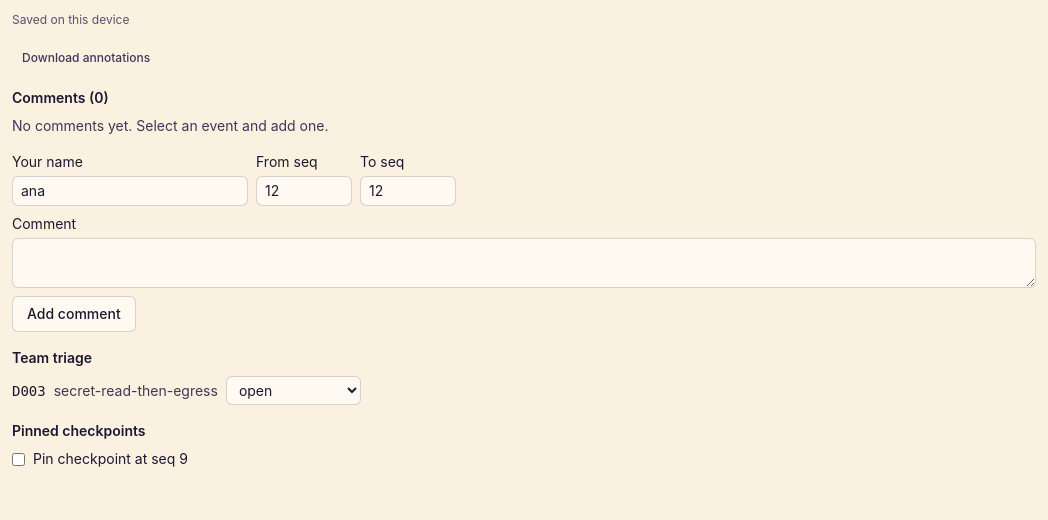
Test: annotations panel › refuses an inverted range with a message
Replace the text in the field labelled "To seq" with "3" at (408, 191), box [360,176,456,206]
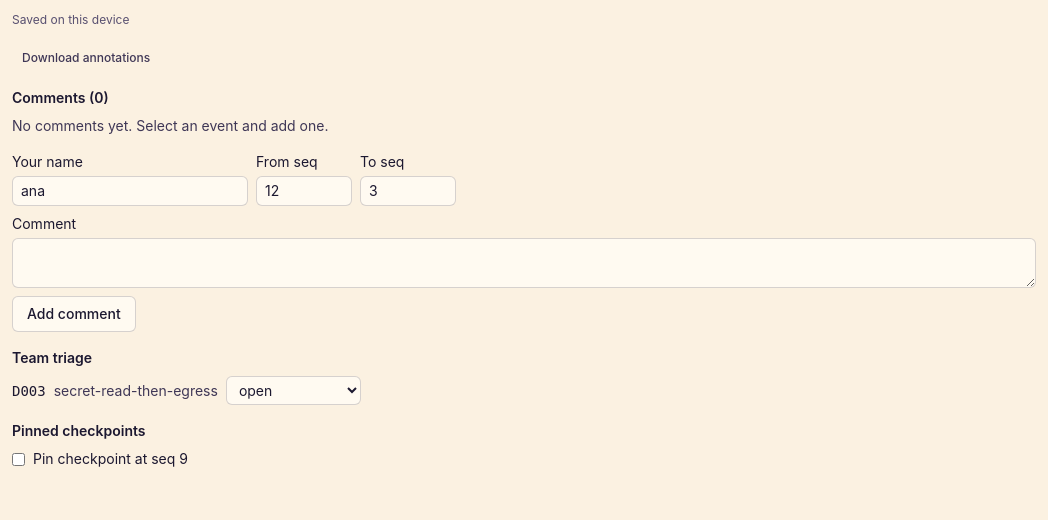
Type "x" into the text box labelled "Comment".
click(524, 263); type("x")  # box [12,238,1036,288]
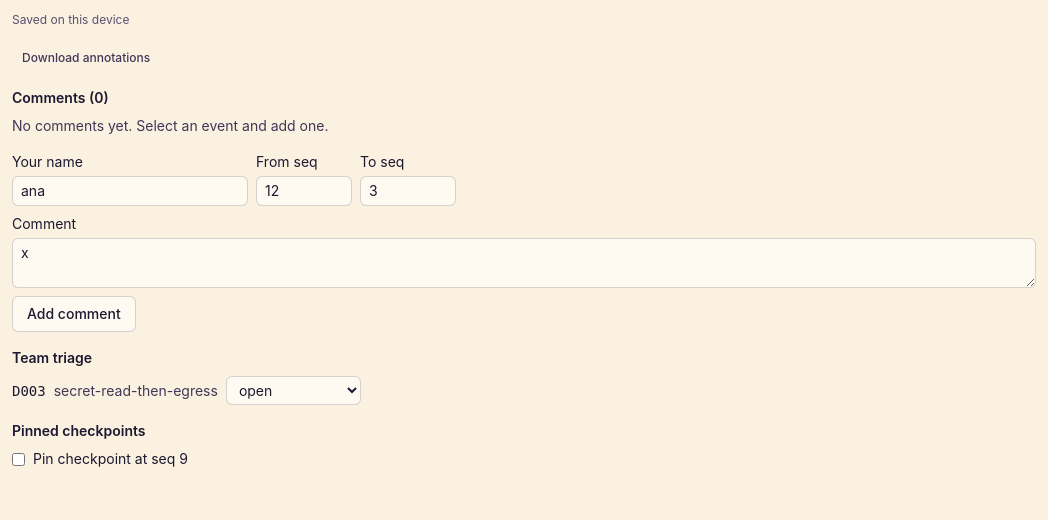
Click the button "Add comment".
click(74, 314)  # box [12,296,136,332]
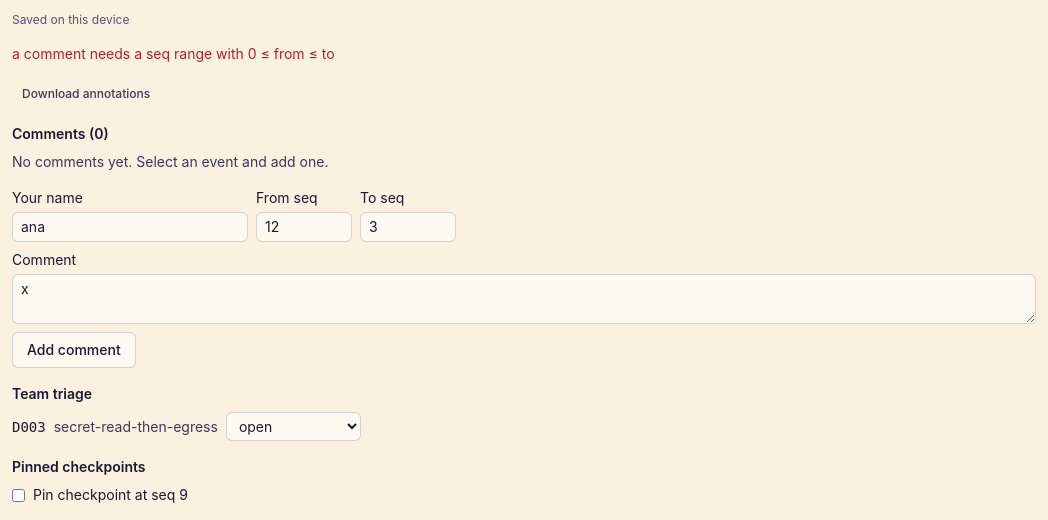
Expected: the message "a comment needs a seq range with 0 ≤ from ≤ to" is shown, [12,45,335,62]
